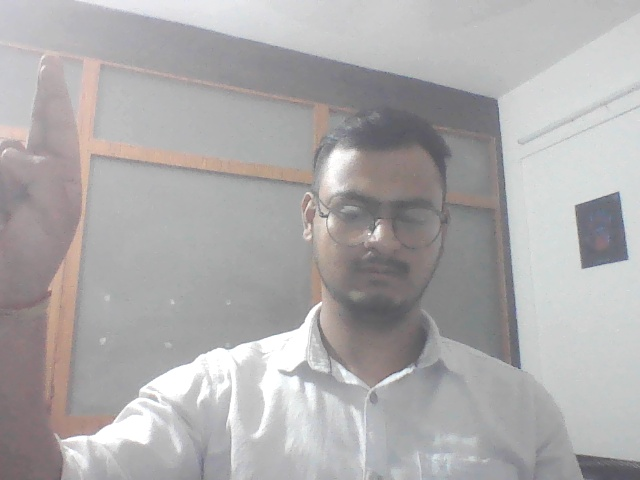GoodLuck: (1, 52, 87, 294)
